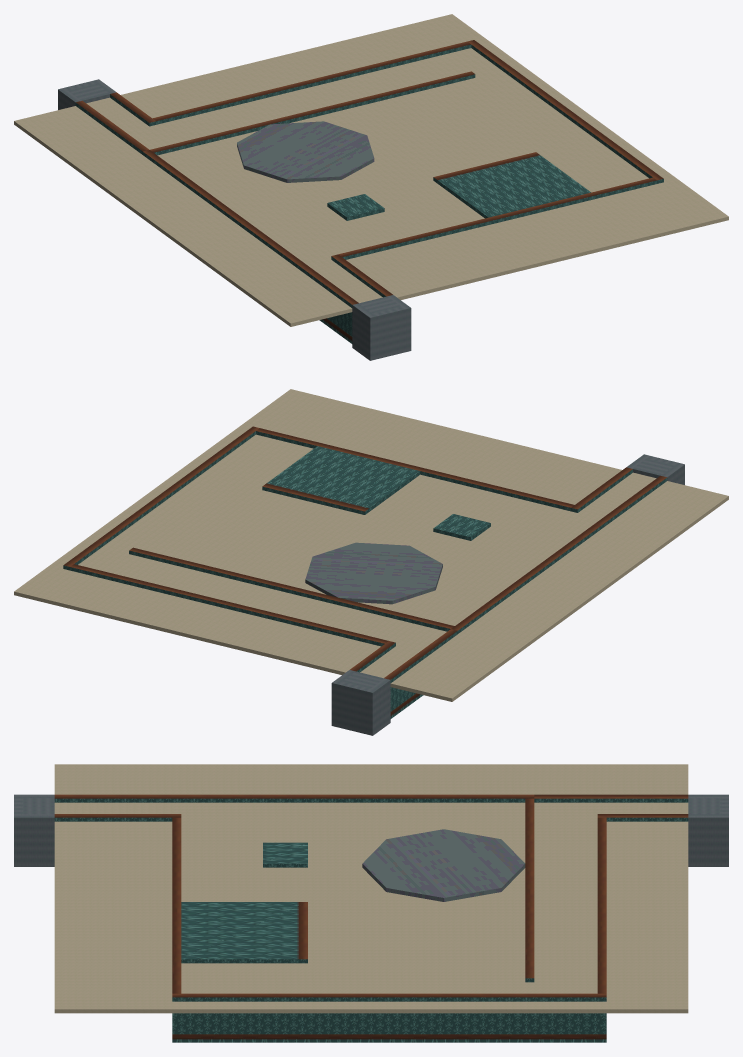
The model's file is level6.fbx.
3 views of the same model, one above another, from view 1: azimuth 30°, elevation 25°; view 2: azimuth 150°, elevation 25°; view 3: azimuth 270°, elevation 25° (orthographic). The views are drawn at different scales.
Visible parts, largest first — view 1: Cube.032, Cylinder, Cube.012, Cube, Cube.003, Cube.042, Cube.011, Cube.005, Cube.040, Cube.002, Cube.020, Cube.031 (+3 smaller); view 2: Cube.032, Cylinder, Cube.012, Cube.003, Cube.042, Cube, Cube.011, Cube.014, Cube.040, Cube.031, Cube.002, Cube.020 (+2 smaller); view 3: Cube.032, Cube.040, Cylinder, Cube.012, Cube, Cube.003, Cube.011, Cube.042, Cube.006, Cube.016, Cube.031, Cube.002 (+8 smaller).
Boxes of the visible parts, <box> form: Cube.032: <box>14,14,728,326</box>; Cylinder: <box>237,121,374,182</box>; Cube.012: <box>433,152,590,218</box>; Cube: <box>143,150,358,343</box>; Cube.003: <box>150,71,475,155</box>; Cube.042: <box>152,41,471,124</box>; Cube.011: <box>338,177,656,259</box>; Cube.005: <box>366,305,411,360</box>; Cube.040: <box>467,40,663,183</box>; Cube.002: <box>312,262,382,302</box>; Cube.020: <box>327,194,384,220</box>; Cube.031: <box>75,100,149,154</box>; Cube.032: <box>14,389,728,701</box>; Cylinder: <box>305,542,442,604</box>; Cube.012: <box>262,446,420,514</box>; Cube.003: <box>129,547,454,631</box>; Cube.042: <box>70,564,388,646</box>; Cube: <box>451,475,667,633</box>; Cube.011: <box>256,428,574,511</box>; Cube.014: <box>331,680,376,735</box>; Cube.040: <box>63,426,259,570</box>; Cube.031: <box>384,629,457,718</box>; Cube.002: <box>583,473,656,515</box>; Cube.020: <box>433,514,490,540</box>; Cube.032: <box>54,764,688,1013</box>; Cube.040: <box>172,993,606,1042</box>; Cylinder: <box>362,829,525,901</box>; Cube.012: <box>181,902,307,963</box>; Cube: <box>54,794,534,802</box>; Cube.003: <box>525,798,534,982</box>; Cube.011: <box>172,817,181,993</box>; Cube.042: <box>597,817,606,993</box>; Cube.006: <box>23,814,54,866</box>; Cube.016: <box>688,814,719,866</box>; Cube.031: <box>534,794,688,802</box>; Cube.002: <box>54,802,172,813</box>.
Bounding box in the file's own units: 25600 × 2400 × 31600.
4 materials, 4 textured.
